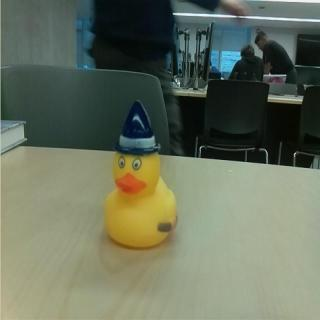duck_specialty: (103, 99, 180, 249)
